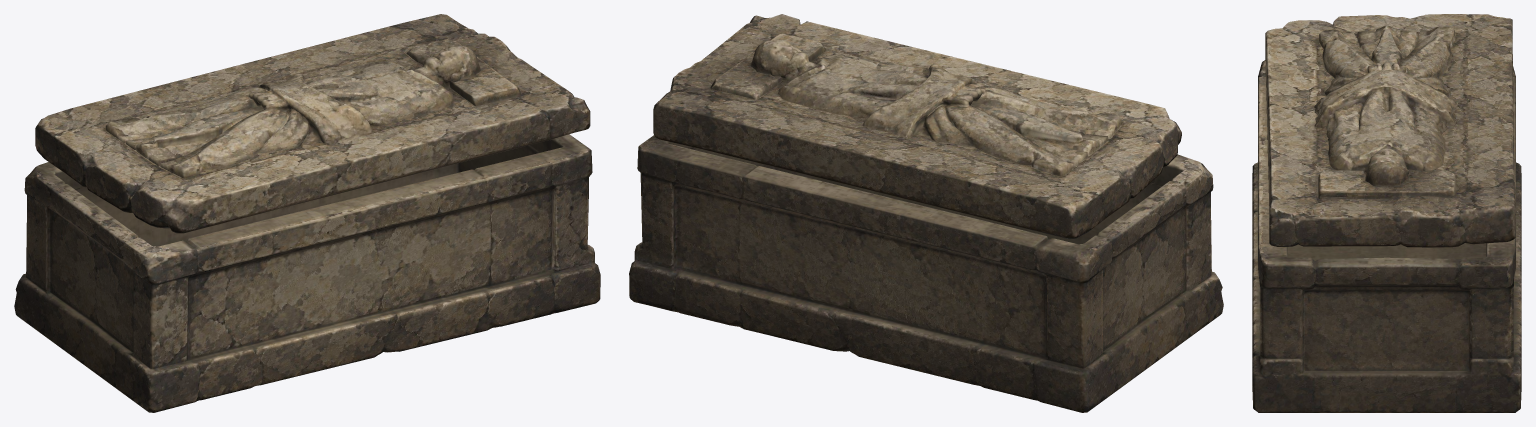
Rendered from dungeon-prop-sarcophagus.glb.
The picture shows the model from 3 angles, left to right: view 1: azimuth 30°, elevation 25°; view 2: azimuth 150°, elevation 25°; view 3: azimuth 270°, elevation 25°; orthographic projection. The views are drawn at different scales.
Parts seen in each view (by area): view 1: sarcophagus; view 2: sarcophagus; view 3: sarcophagus.
Part boxes in pixels (x1,y1,x2,y2): sarcophagus: [14, 14, 600, 412]; sarcophagus: [629, 14, 1223, 412]; sarcophagus: [1252, 14, 1521, 412].
Bounding box in the file's own units: 2.2 × 1.05 × 1.16.
Materials: 1 (1 with a texture image).
